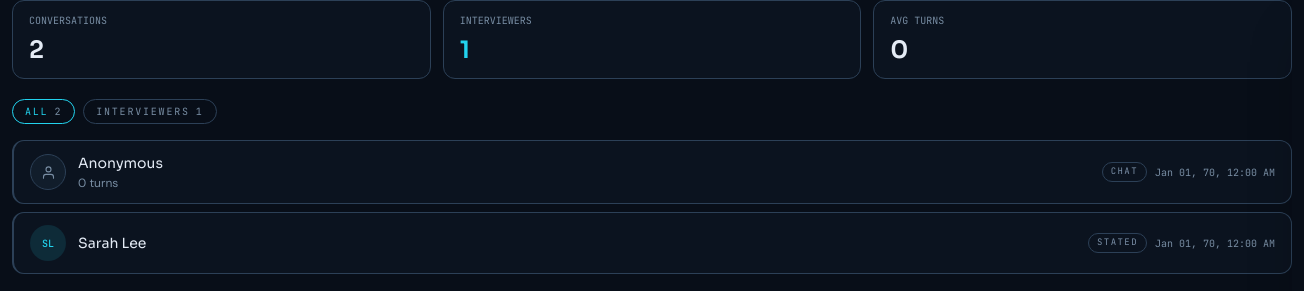
ConversationsSection › filters to interviewers when the segment is selected
Expected: the text "Sarah Lee" is shown, [78,234,146,252]
Step 1. Click the button "Interviewers 1" → (150, 112), box [83,99,217,124]
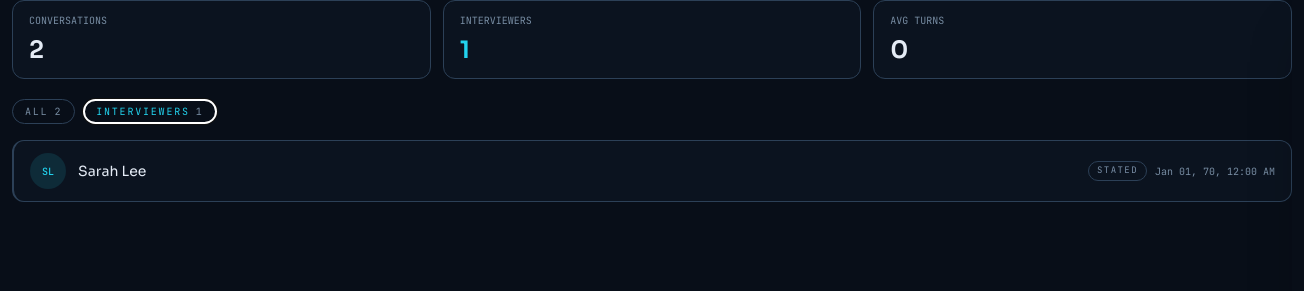
Expected: the text "Sarah Lee" is shown, [78,162,146,180]
Result: the button "chat" is gone
